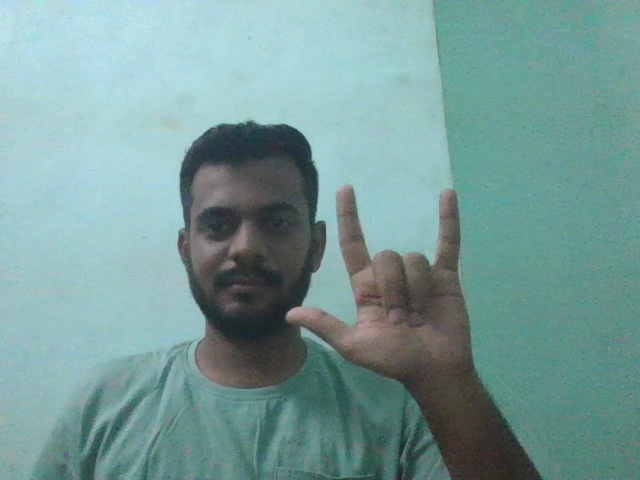iloveyou: (282, 176, 510, 384)
